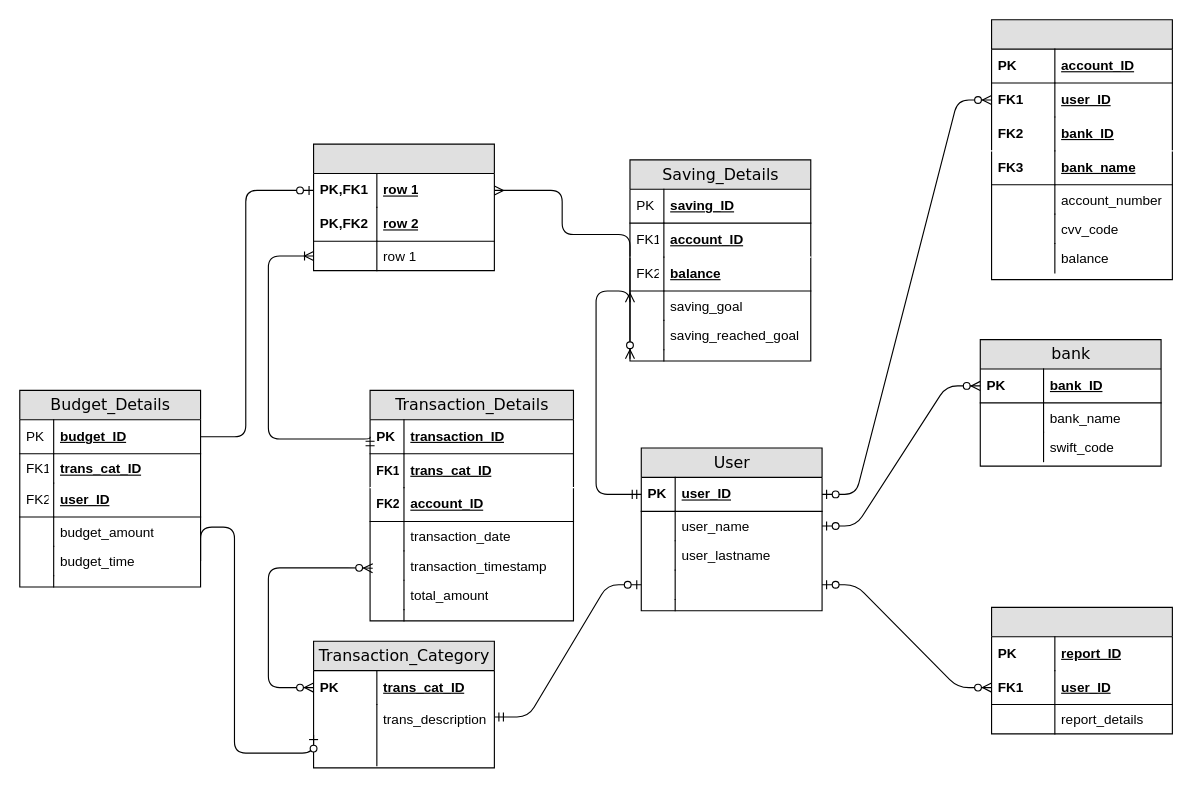
Some shapes in this 1192 by 789 pixel diagram are drawn without their labels. The box of each missing label's shape, as (x1, y1, x2, y2) in pixels:
bank_account: (990, 19, 1172, 280)
Report_Data: (990, 606, 1172, 734)
Reward: (312, 143, 494, 271)
